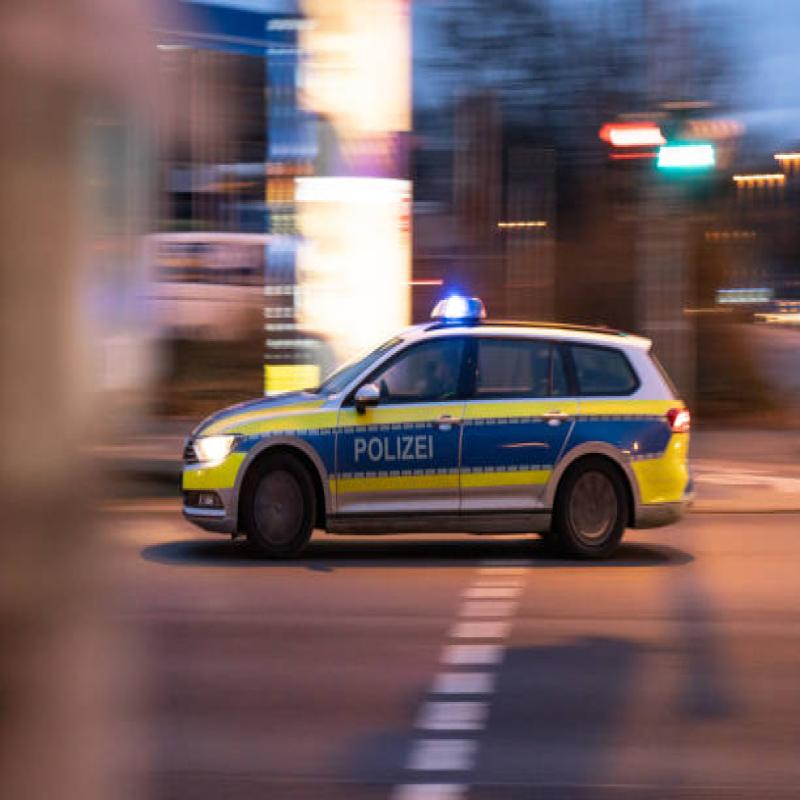AmbulanceSiren: (414, 273, 502, 340)
